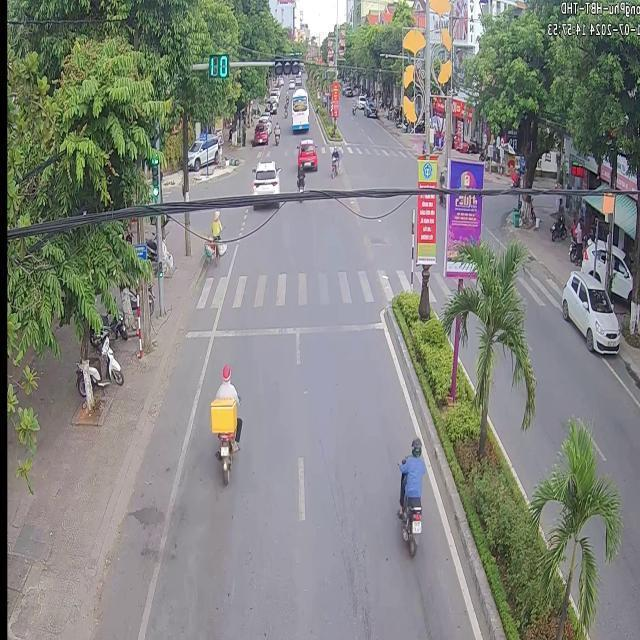car: (559, 269, 618, 351), (250, 158, 278, 194), (289, 85, 308, 130), (296, 136, 316, 168), (252, 200, 277, 207)
green_light: (206, 53, 228, 79), (150, 149, 157, 195)
motobike: (208, 365, 239, 482), (398, 436, 424, 554)
stop_line: (186, 319, 384, 336)
